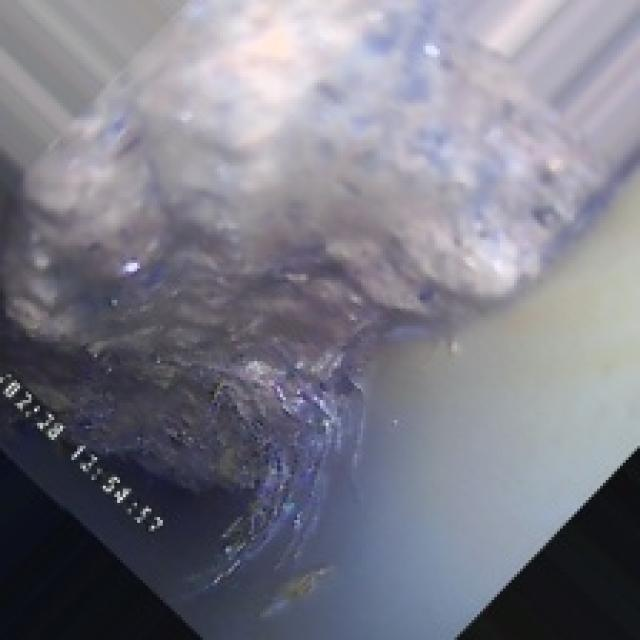sluge accumulation: (69, 51, 580, 446)
